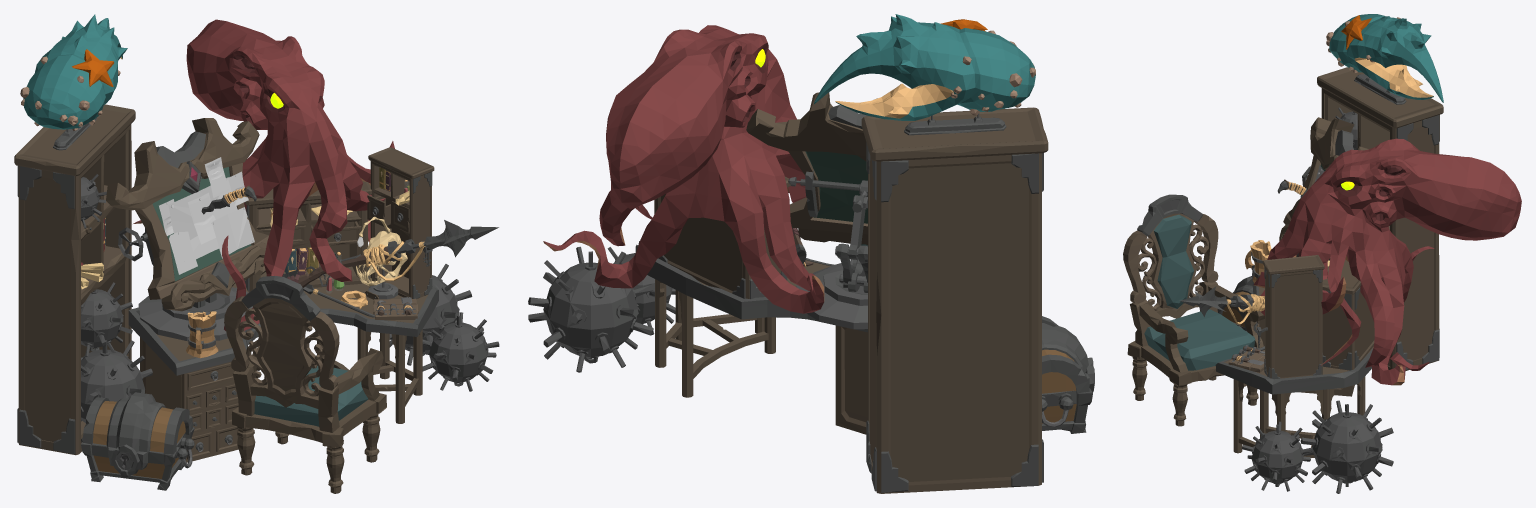
File: Table_Preset_002.fbx
3 views of the same model, side by side, from view 1: azimuth 30°, elevation 25°; view 2: azimuth 150°, elevation 25°; view 3: azimuth 270°, elevation 25° (orthographic). The views are drawn at different scales.
Parts seen in each view (by area): view 1: Table_Preset_002; view 2: Table_Preset_002; view 3: Table_Preset_002.
Boxes of the visible parts, box(x1,y1,x2,y2) form: Table_Preset_002: box(14, 14, 499, 493); Table_Preset_002: box(528, 14, 1094, 493); Table_Preset_002: box(1123, 14, 1521, 493).
Bounding box in the file's own units: 4.5 × 3.8 × 4.
